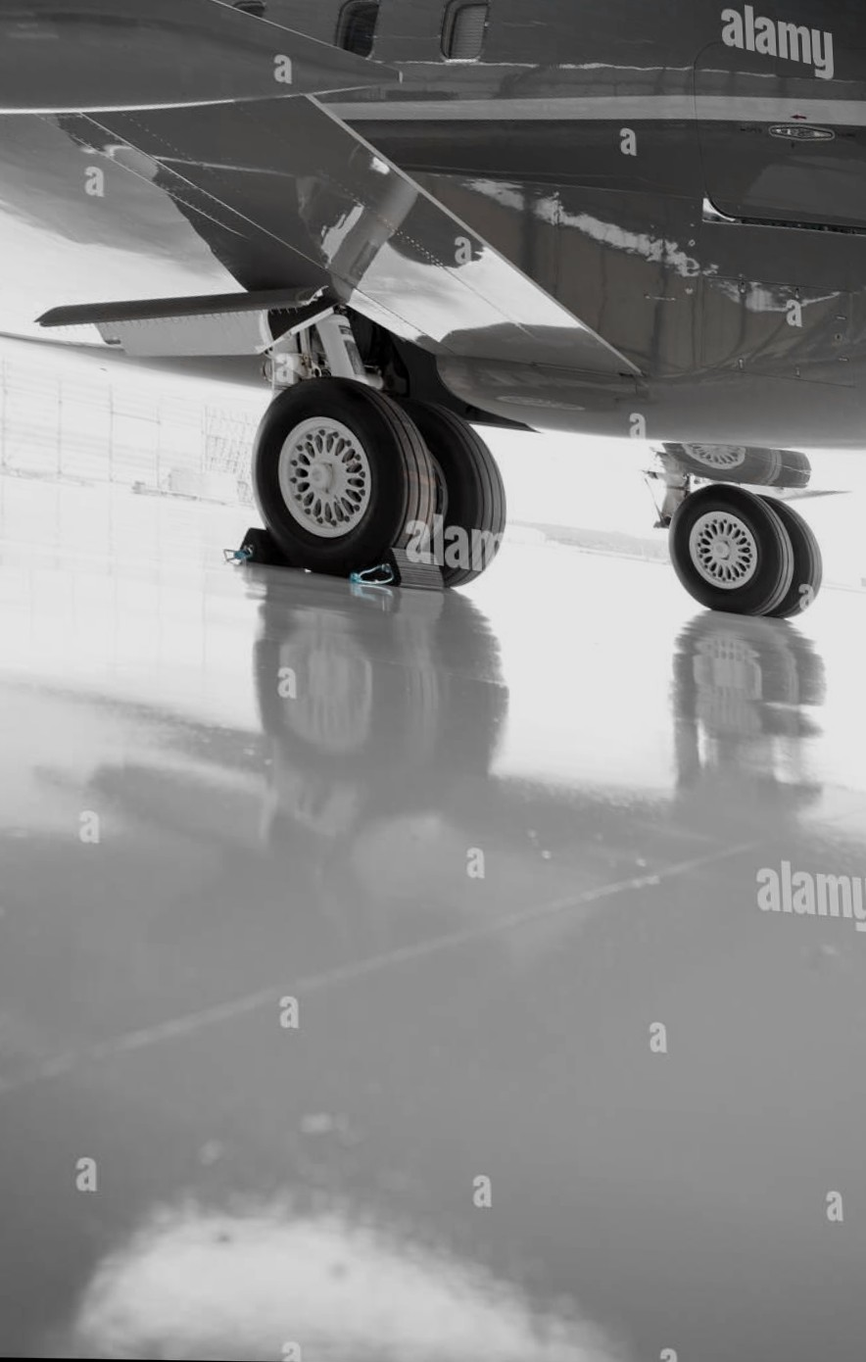chock: (355, 537, 453, 603), (230, 515, 318, 573)
wheel: (248, 362, 430, 584), (386, 397, 506, 595), (665, 474, 820, 625), (745, 492, 824, 620)
